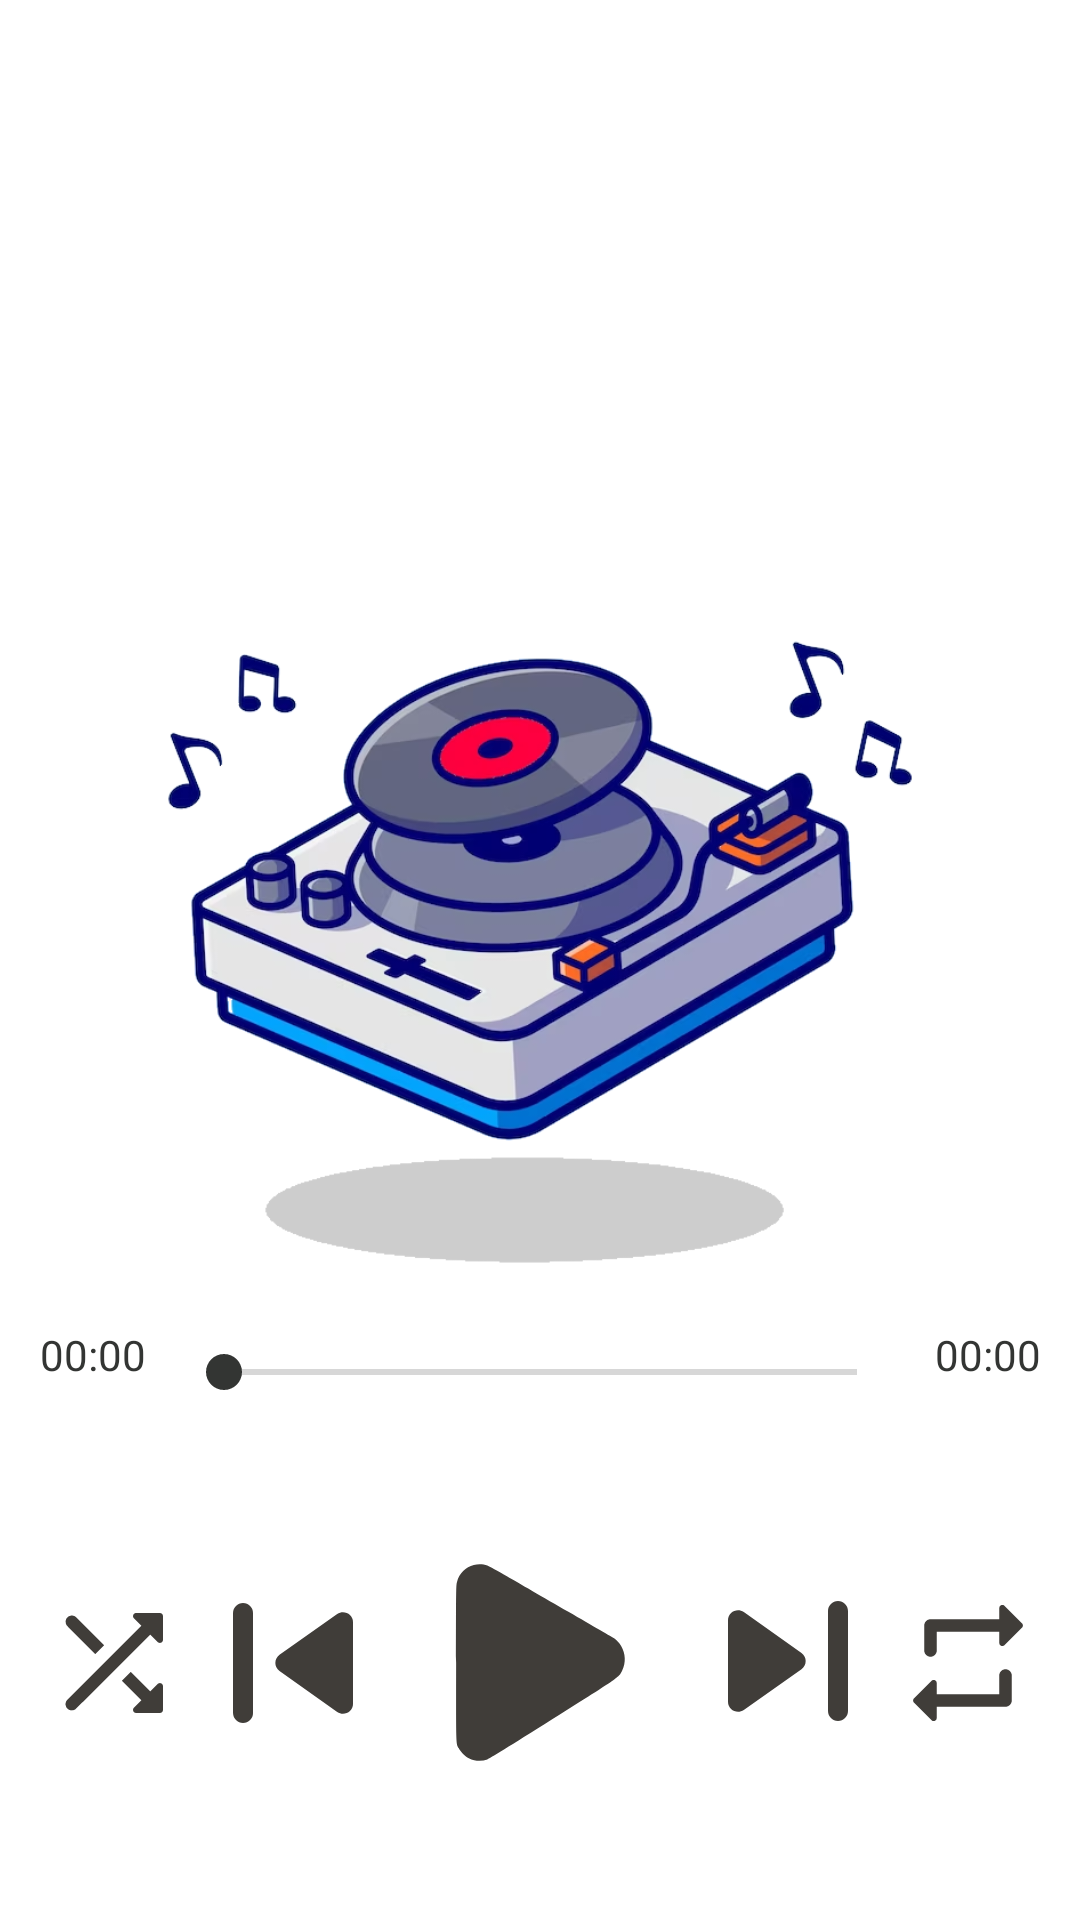

Screen size 1080 × 1920. Icon name, then its center in pixels as (x,y):
play: (540,1662)
repeat off: (968,1663)
shuffle: (114,1663)
